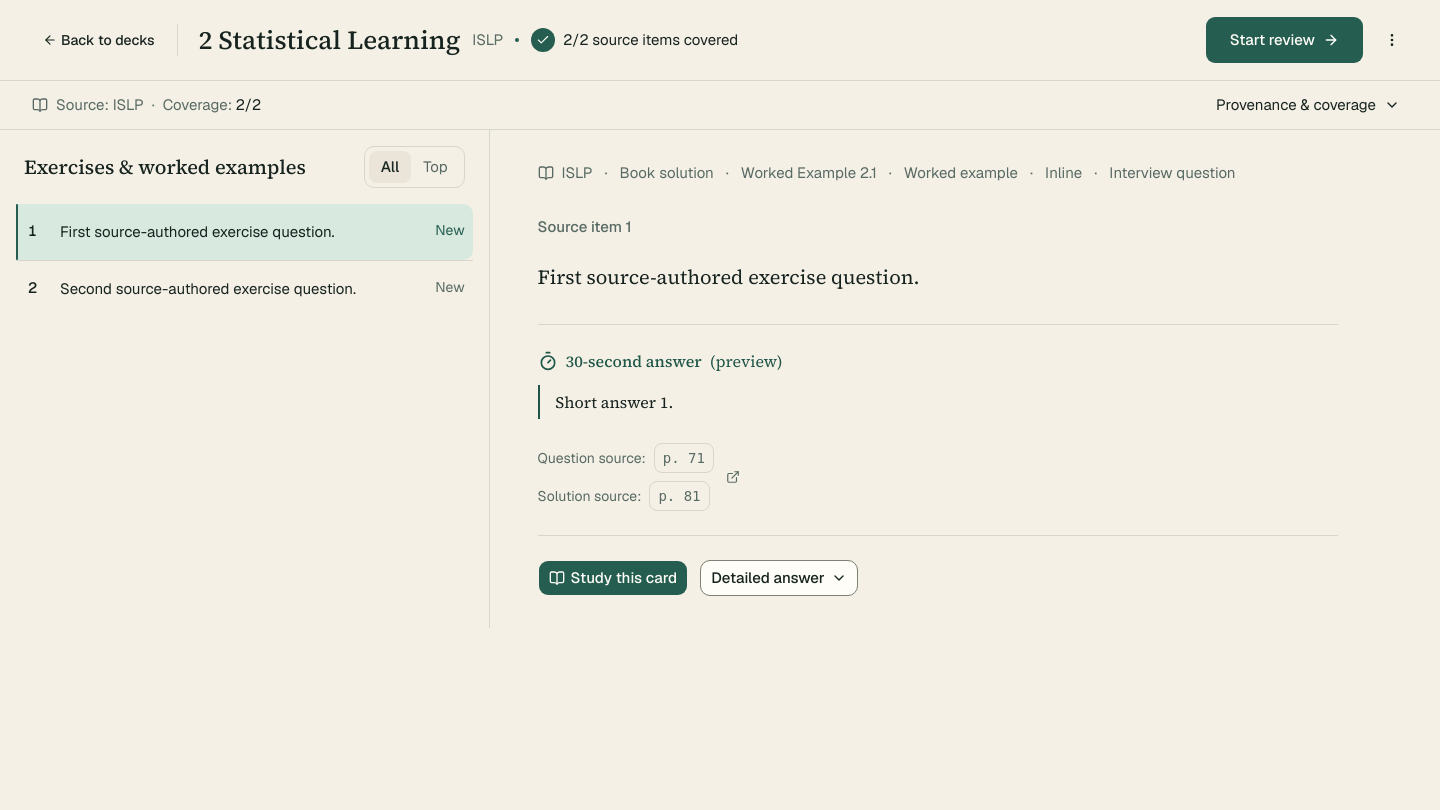
Test: deck question navigator › does not start review on a card outside today's queue
Click the button "2 Second source-authored exercise question. New" at (244, 289), box [16,261,473,317]
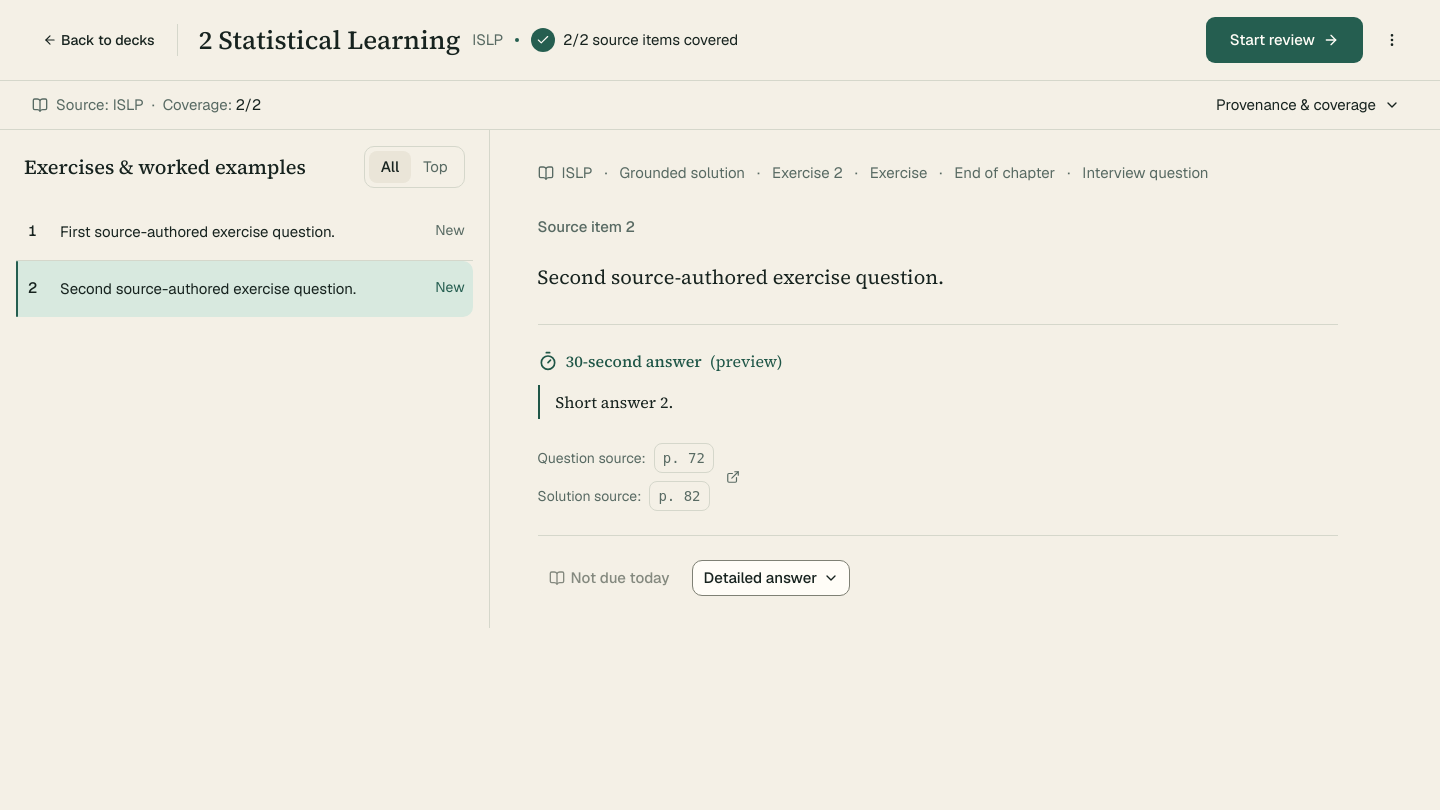
Now the button "Not due today" is disabled, box [538,560,680,596]
